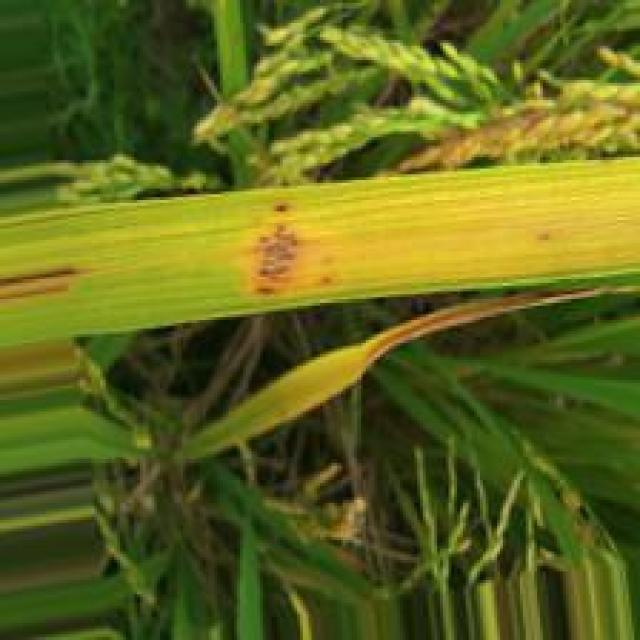Narrow_Brown_Leaf_Spot: (0, 154, 640, 315)
